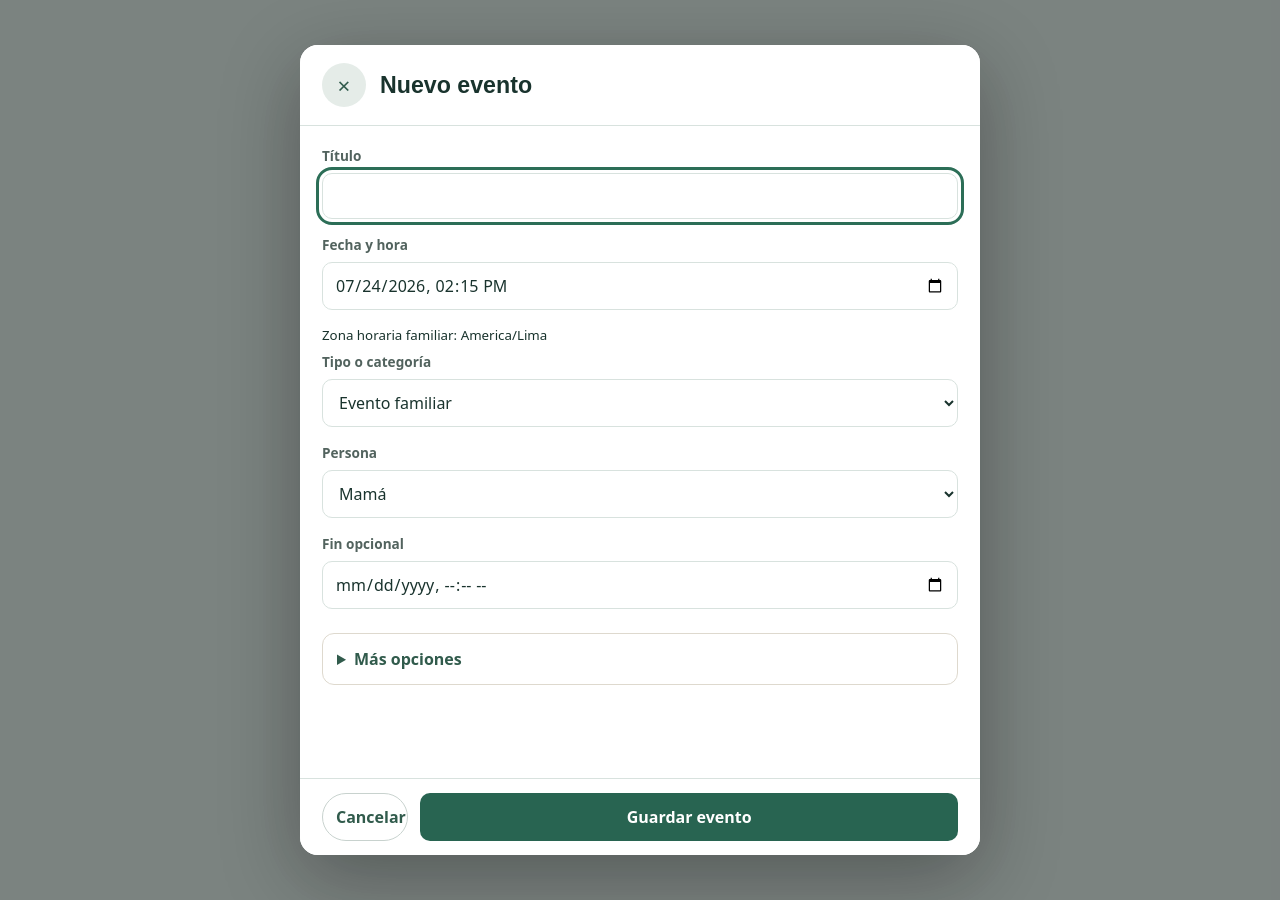
Test: FormularioEvento › conserva el borrador y muestra el error 400 dentro del formulario
Type "Notaría" into the field with id "evento-titulo".
click(640, 196); type("Notaría")  # box top-left (322, 173), bottom-right (958, 219)
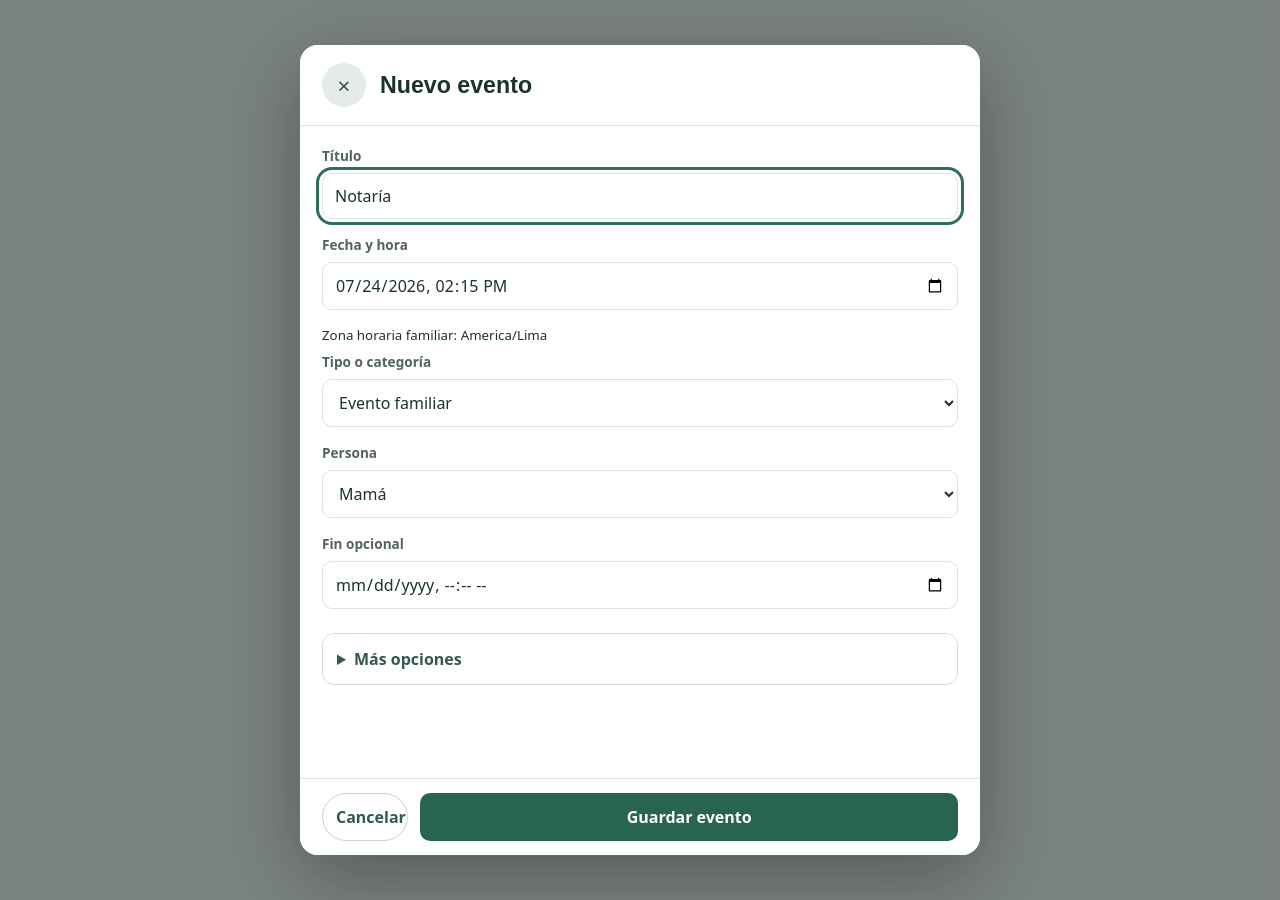
Replace the text in the field with id "evento-inicio" with "2099-07-19T10:00" at (640, 286), box top-left (322, 262), bottom-right (958, 310)
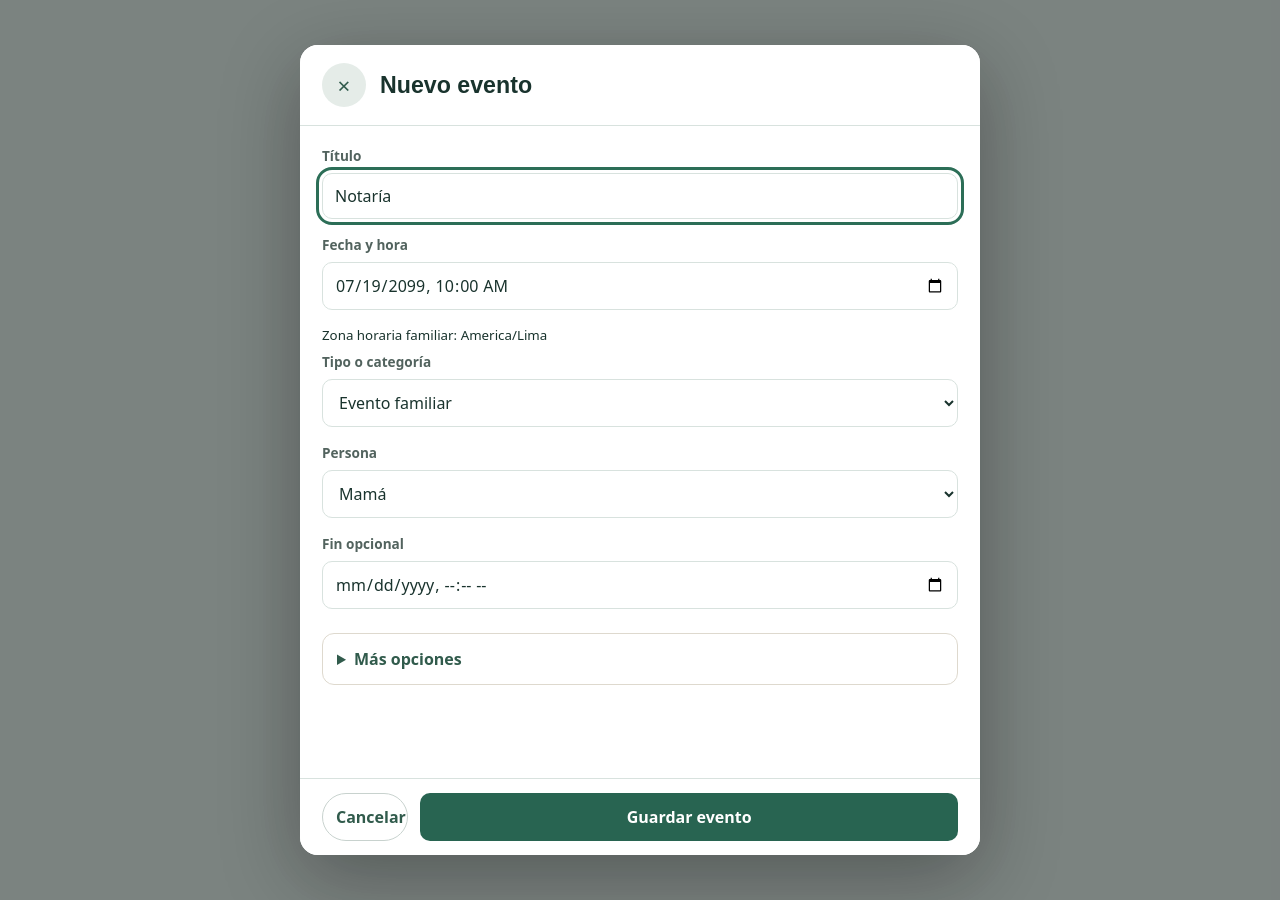
Submit the form, box top-left (300, 45), bottom-right (980, 855)
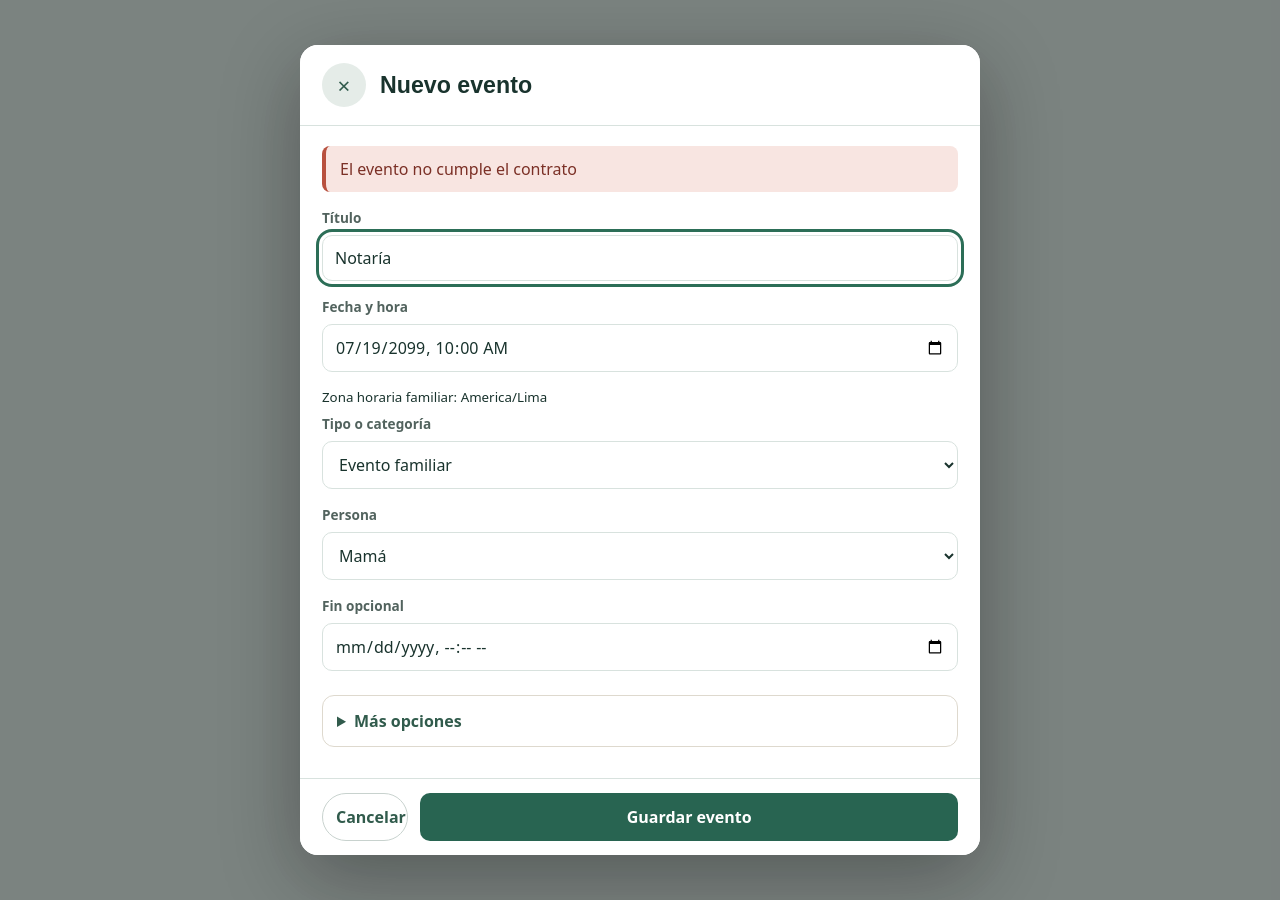
Check: the text "El evento no cumple el contrato" is shown, box top-left (322, 146), bottom-right (958, 192)
